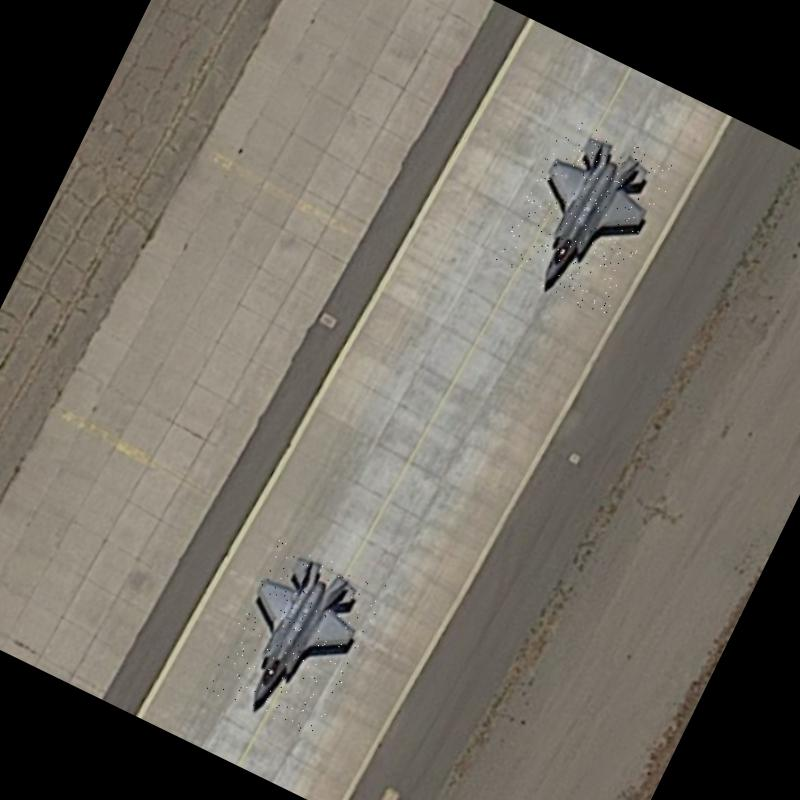A15: (492, 112, 678, 319), (205, 534, 388, 742)
